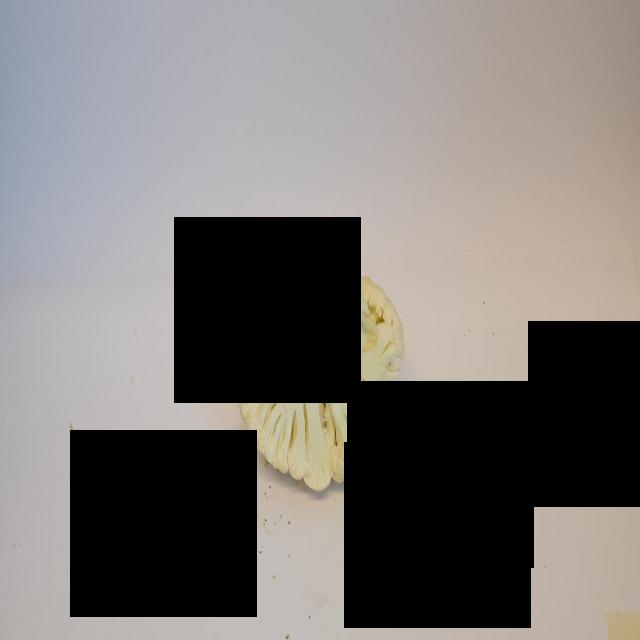cauliflower: (238, 259, 404, 491)
